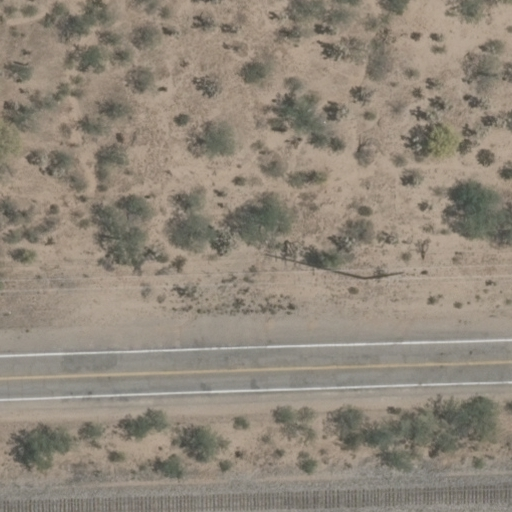DT: (360, 265, 406, 282)
